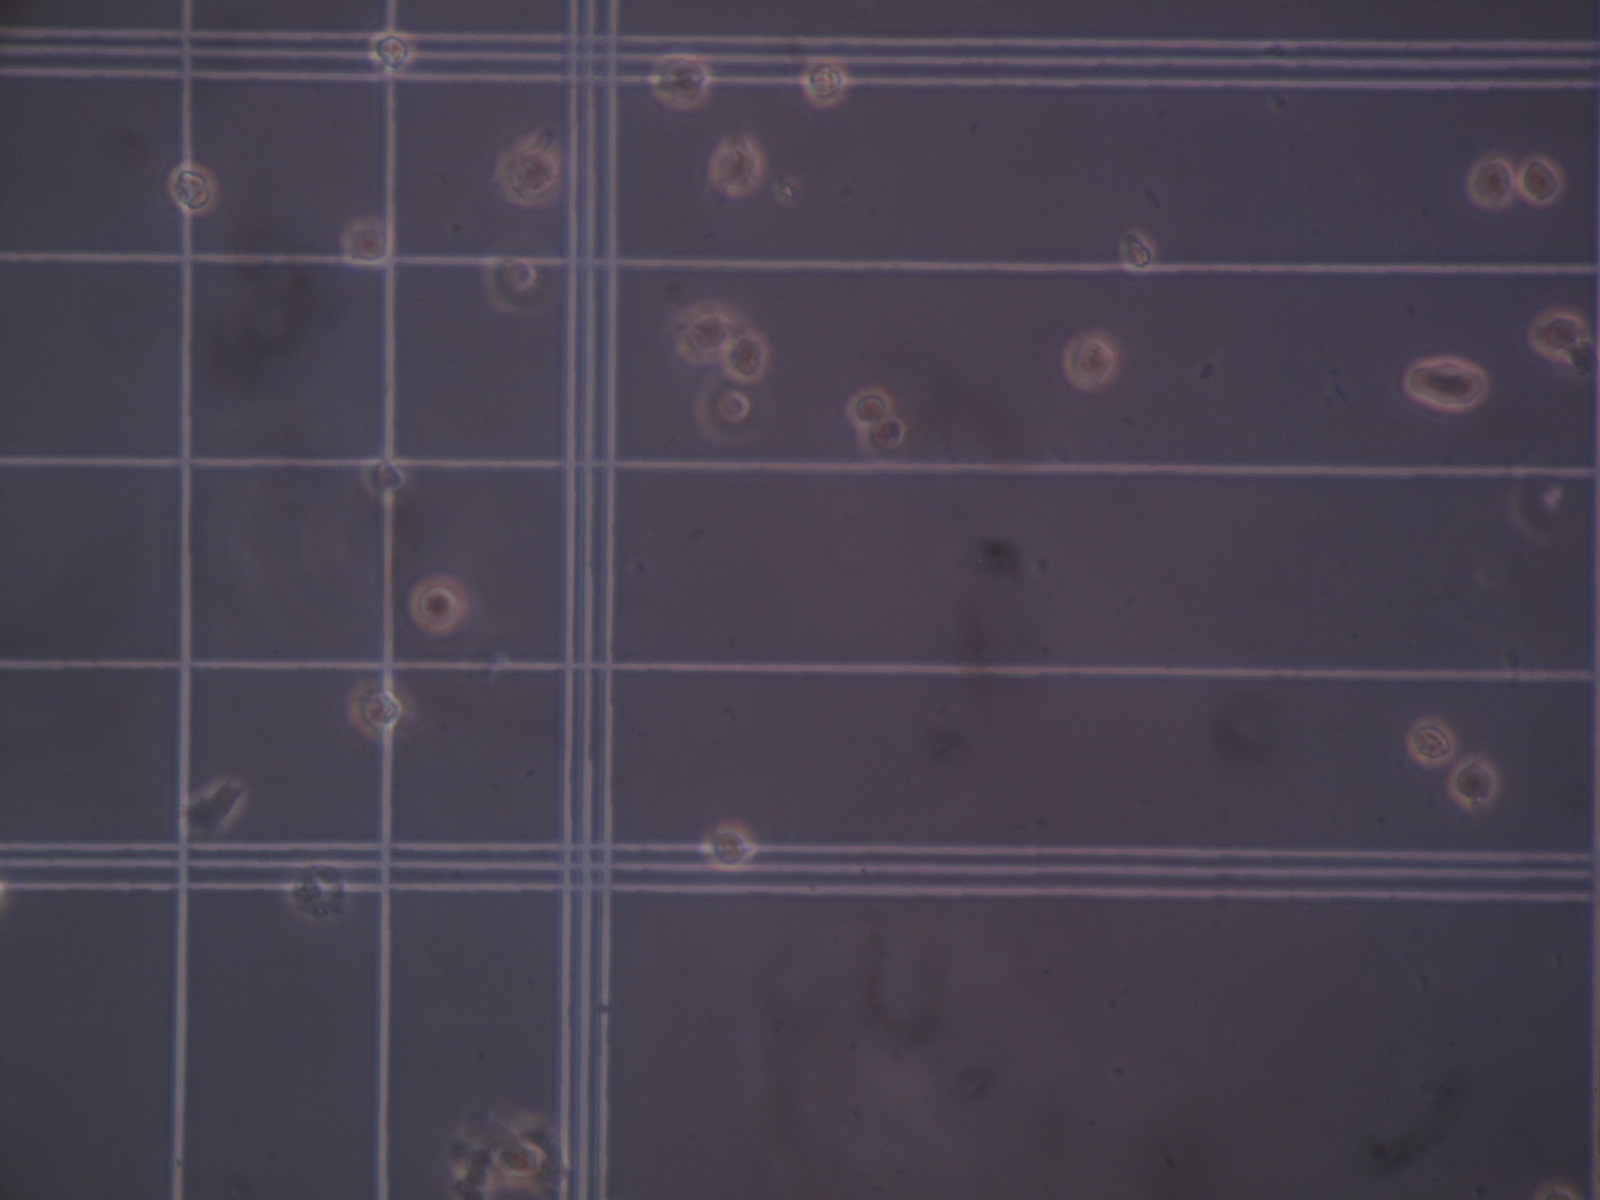hemo: (1402, 355, 1488, 412), (481, 239, 539, 318), (496, 142, 563, 209), (694, 376, 752, 447), (673, 301, 736, 366), (648, 52, 713, 111), (346, 681, 406, 739), (409, 575, 467, 634), (1062, 332, 1117, 391), (708, 139, 763, 197), (1527, 309, 1587, 361), (1465, 154, 1516, 211), (340, 217, 394, 268), (700, 821, 756, 871), (166, 161, 217, 216), (1448, 756, 1499, 808), (799, 55, 848, 108), (1406, 716, 1456, 766), (723, 332, 770, 384), (360, 458, 411, 504), (1518, 155, 1563, 207), (860, 417, 913, 461), (493, 1136, 547, 1177), (368, 30, 414, 76), (845, 386, 892, 429), (1117, 229, 1157, 274), (1, 865, 9, 930)
